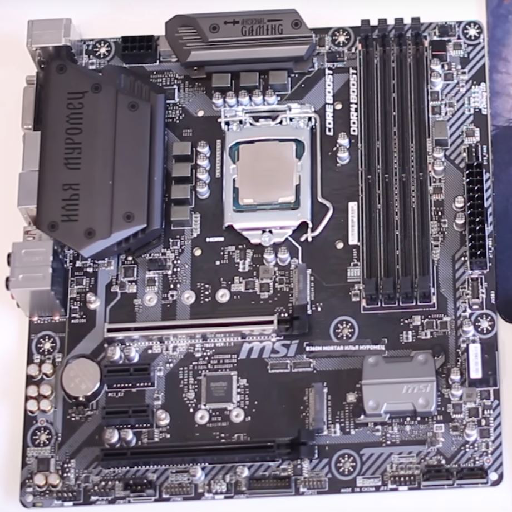CPU: (218, 107, 323, 241)
GPU: (96, 430, 316, 470), (101, 311, 310, 344)
MOTHERBOARD: (7, 13, 501, 503)
RAM: (352, 15, 440, 313)
SSD: (288, 261, 314, 306), (306, 382, 326, 433)
